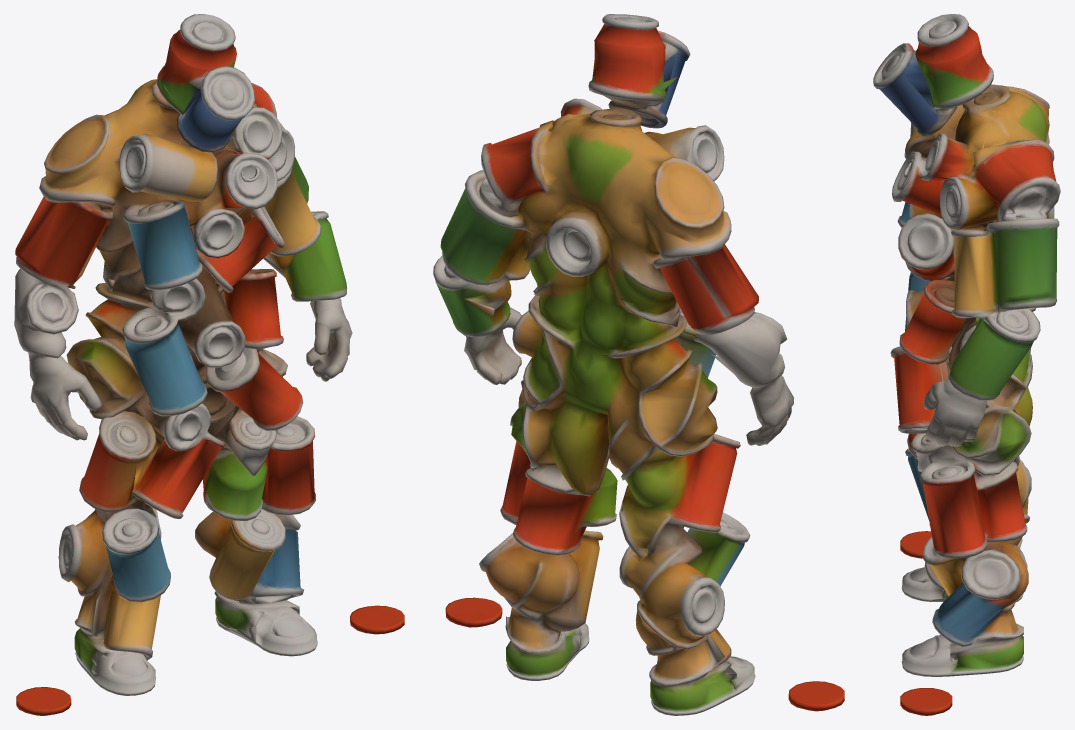
The picture shows the model from 3 angles, left to right: view 1: azimuth 30°, elevation 25°; view 2: azimuth 150°, elevation 25°; view 3: azimuth 270°, elevation 25°; orthographic projection. The views are drawn at different scales.
Visible parts, largest first — view 1: material; view 2: material; view 3: material.
Boxes of the visible parts, box(x1,y1,x2,y2) form: material: box(14, 14, 404, 715); material: box(433, 14, 844, 715); material: box(873, 14, 1060, 715).
Size of the model in its own units: 1.19 by 1.9 by 0.5272.
1 material, 1 textured.
